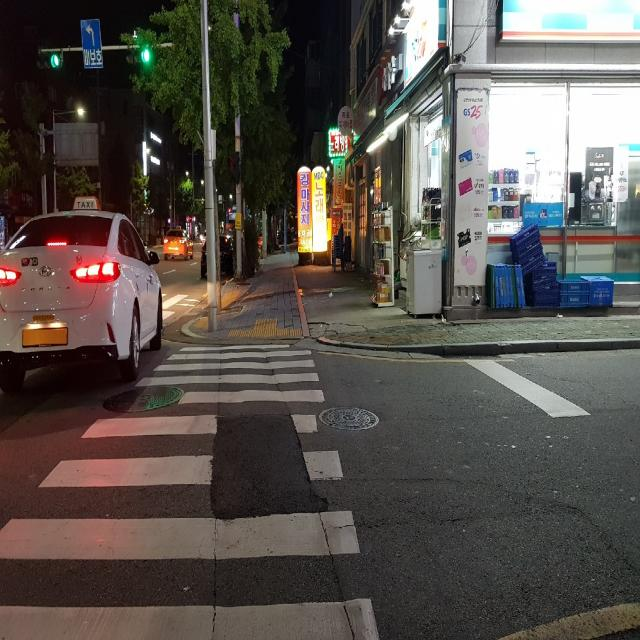횡단보도: (0, 344, 378, 639)
